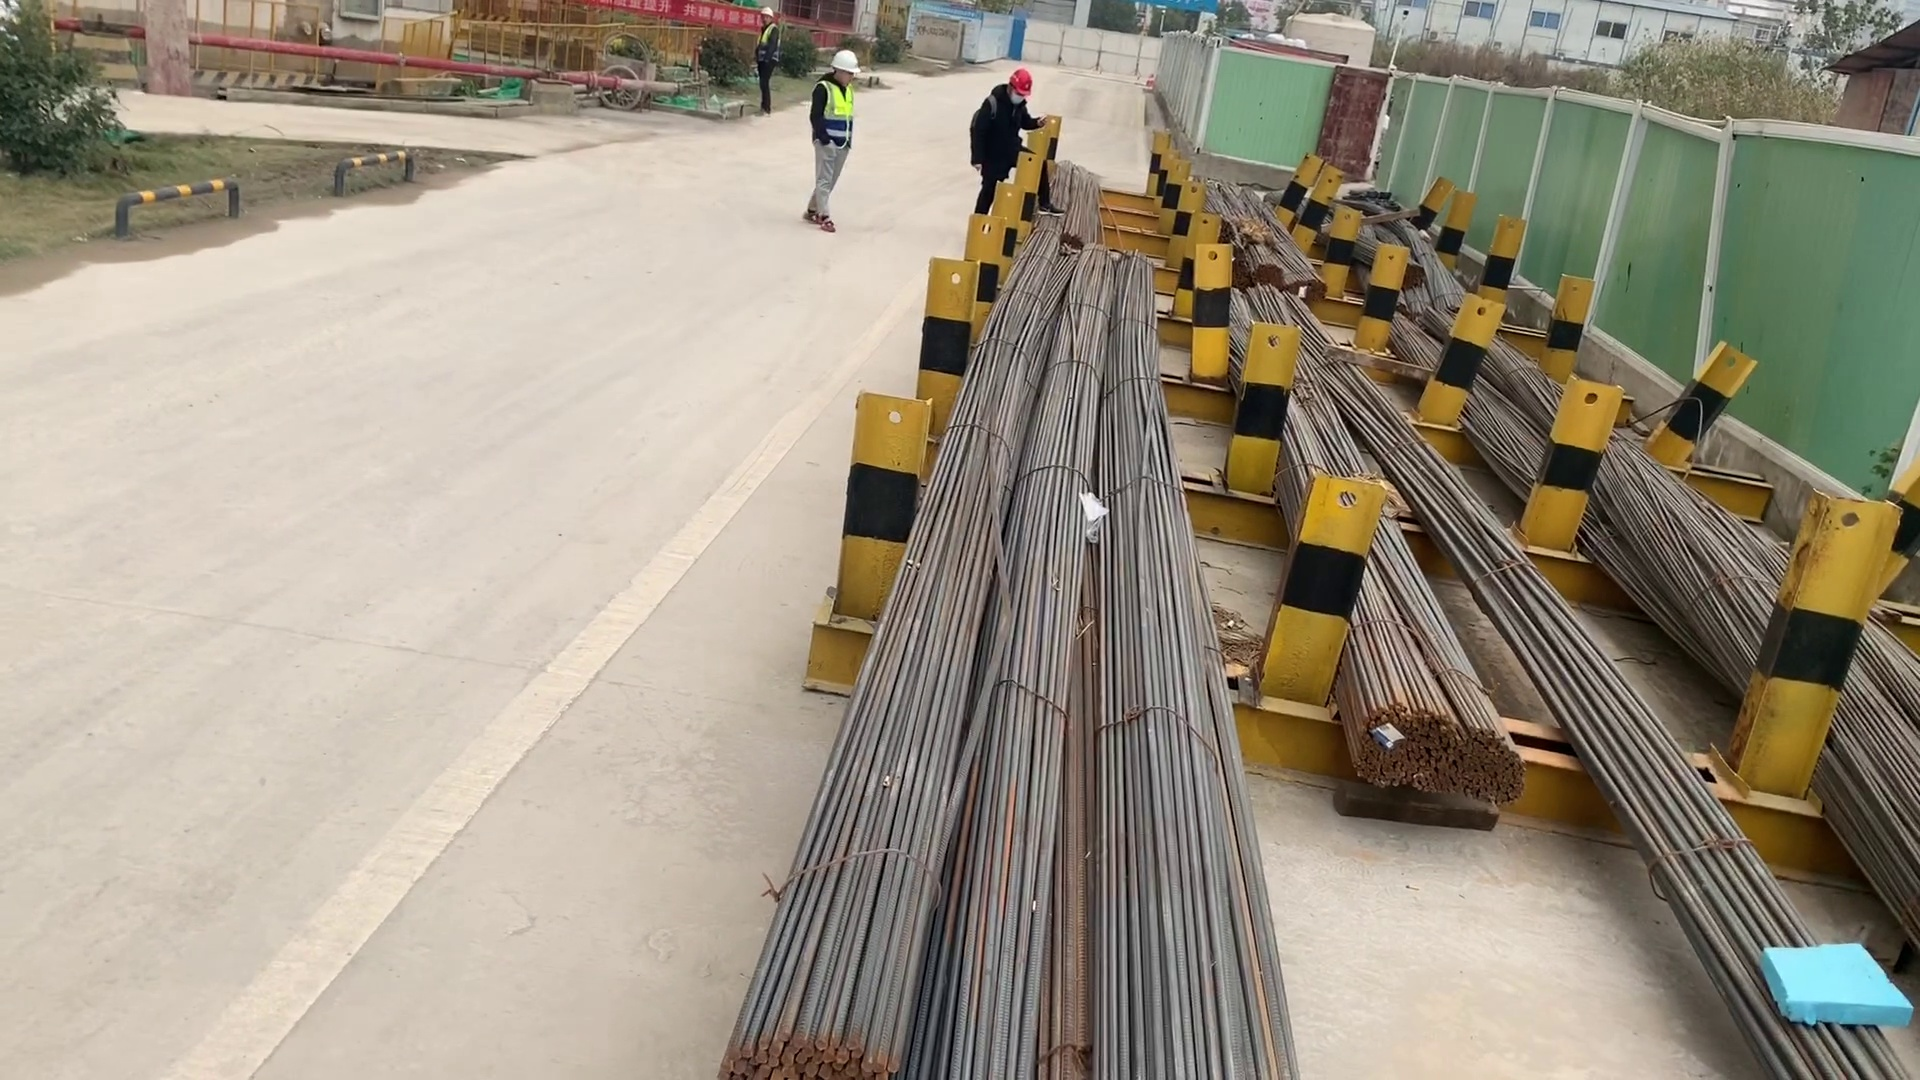rebar: (1353, 695, 1526, 803), (716, 1023, 905, 1080), (1251, 260, 1295, 291), (1298, 269, 1327, 310)
